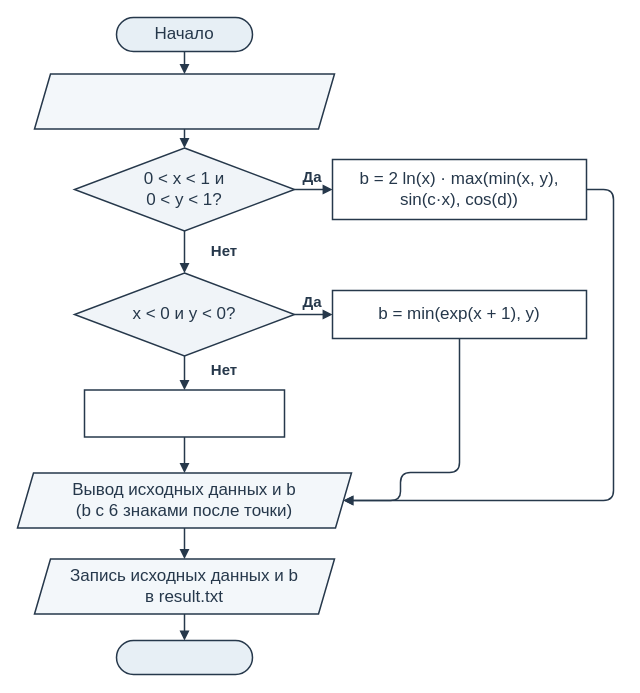
Image size: 640x693. Some labels were removed from this diagram. The centre of each missing label's shape, as x and y in pixels:
b = a + x: pixel 184 413
Ввод x, y, a, c, d Повтор при нечисловом вводе: pixel 184 101
Конец: pixel 184 657
